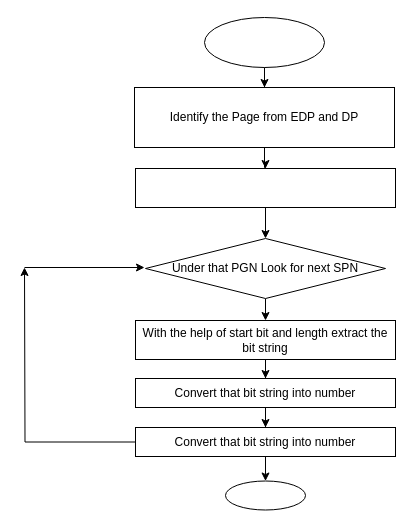
The diagram is 413 pixels wide and 528 high, and some of its shapes have lost their labels. Each missing label, with the box of its shape:
End: (224, 480, 306, 510)
Start: (204, 16, 324, 68)
Under That Page Look for the PGN that came with this frame: (134, 168, 396, 208)
